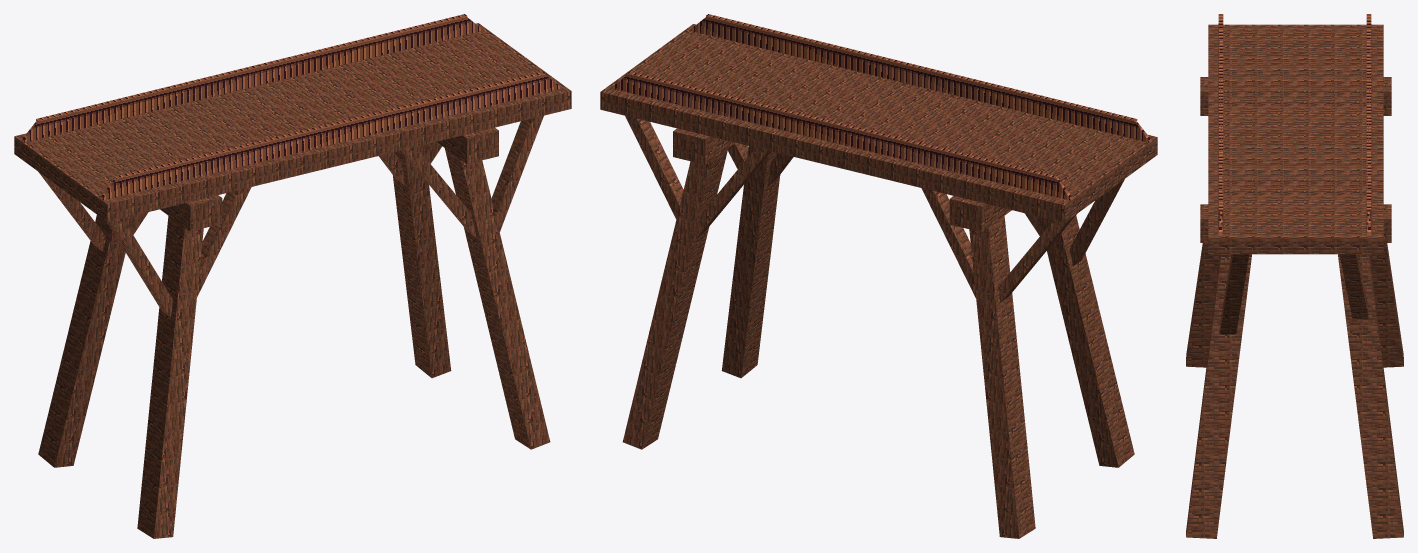
The model's file is highbridge.obj.
The picture shows the model from 3 angles, left to right: view 1: azimuth 30°, elevation 25°; view 2: azimuth 150°, elevation 25°; view 3: azimuth 270°, elevation 25°; orthographic projection. The views are drawn at different scales.
Parts seen in each view (by area): view 1: Geoset_002, Geoset_000, Geoset_001; view 2: Geoset_002, Geoset_000, Geoset_001; view 3: Geoset_000, Geoset_002, Geoset_001.
Boxes of the visible parts, box(x1,y1,x2,y2) form: Geoset_002: box(14, 91, 571, 538); Geoset_000: box(14, 23, 571, 204); Geoset_001: box(21, 14, 562, 200); Geoset_002: box(600, 92, 1157, 538); Geoset_000: box(600, 24, 1157, 205); Geoset_001: box(610, 14, 1151, 200); Geoset_000: box(1208, 24, 1383, 237); Geoset_002: box(1186, 77, 1403, 538); Geoset_001: box(1218, 14, 1371, 236).
Bounding box in the file's own units: 38.37 × 28.22 × 16.55.
